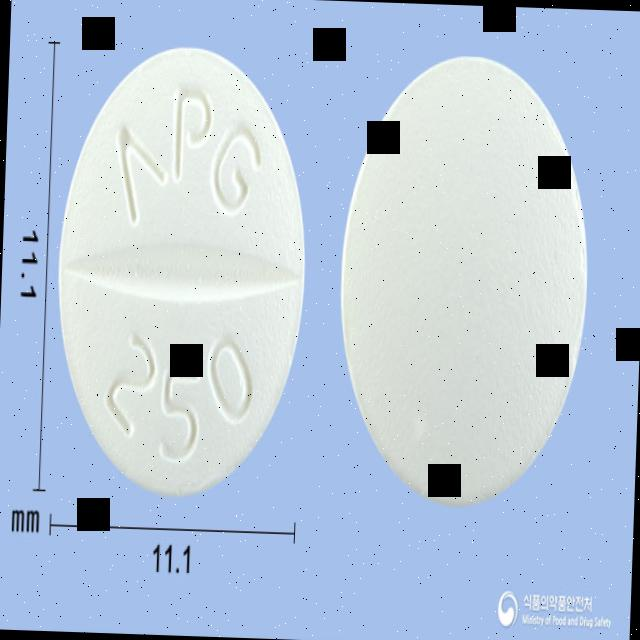Ciflo: (48, 38, 316, 506)
